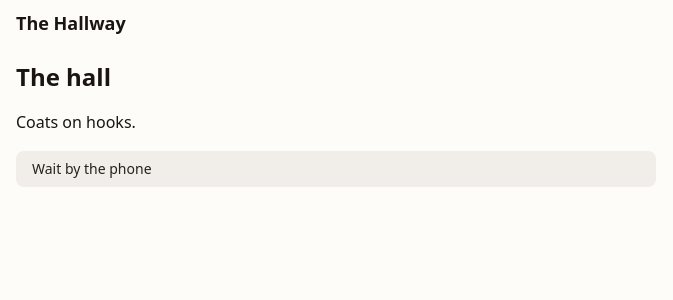
Scenario: Countdown › shows only the seconds to a player who asks for reduced motion
Click the button "Wait by the phone" at x=92, y=168, box [16,151,656,187]
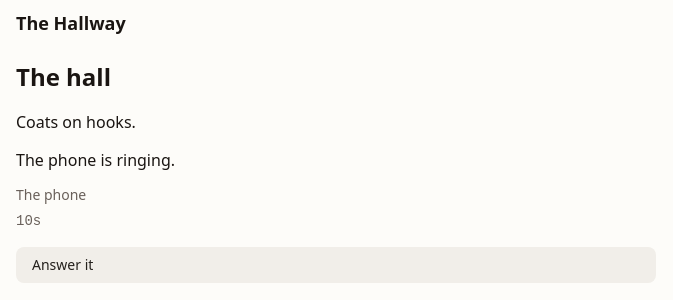
Expected: the text "10s" is shown, [16,213,41,229]
